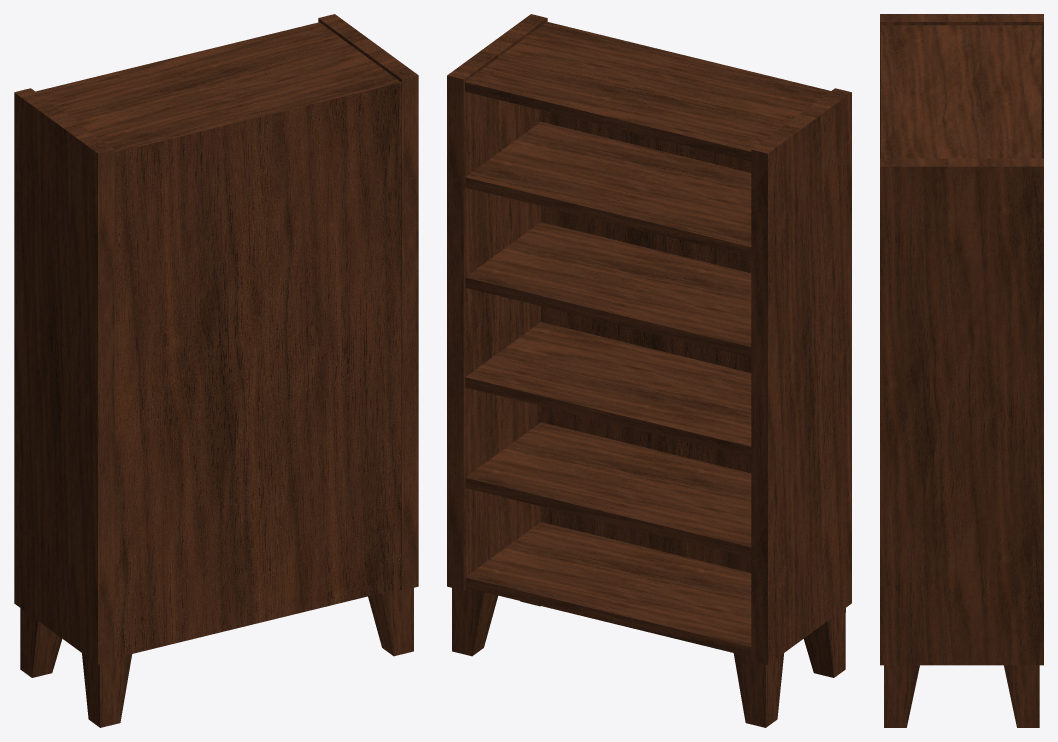
Rendered from empty_bookcase.obj.
3 renders of one model, left to right at view 1: azimuth 30°, elevation 25°; view 2: azimuth 150°, elevation 25°; view 3: azimuth 270°, elevation 25°, orthographic. The views are drawn at different scales.
Parts seen in each view (by area): view 1: mesh; view 2: mesh; view 3: mesh.
Boxes of the visible parts, x1,y1,x2,y2 form: mesh: (14,14,418,727); mesh: (447,14,851,727); mesh: (880,14,1043,727).
Bounding box in the file's own units: 72.42 × 124 × 32.83.
Materials: 1 (1 with a texture image).
